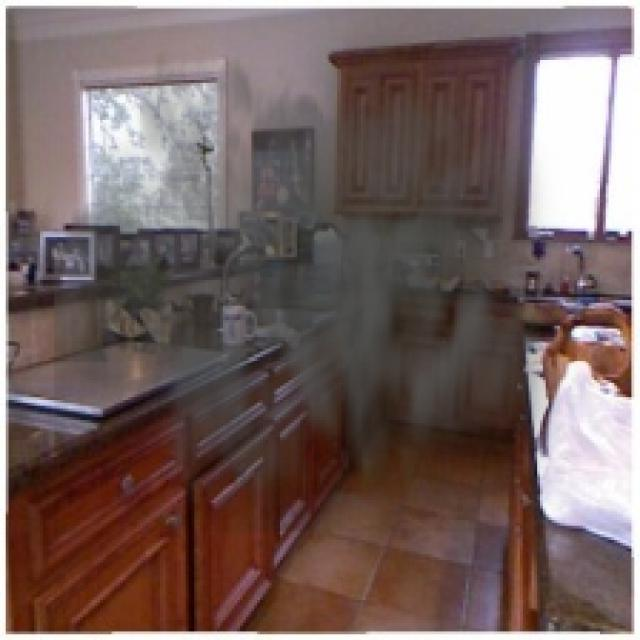Smoke: (54, 0, 575, 532)
